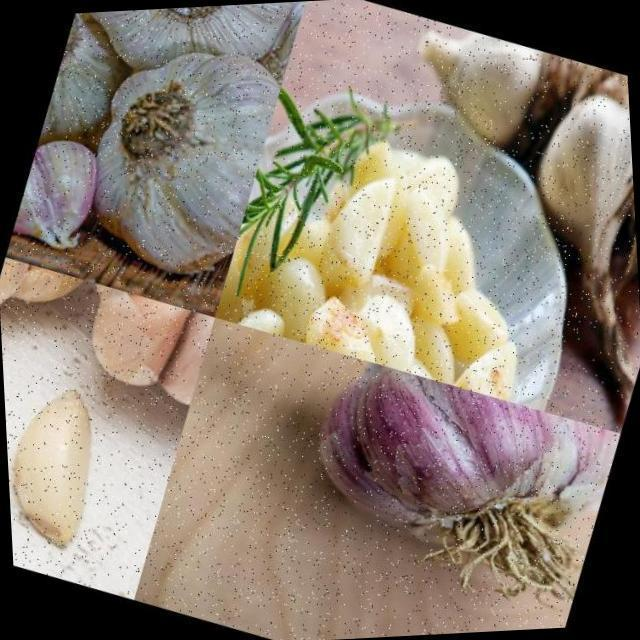garlic: (205, 84, 590, 418), (274, 339, 630, 636), (55, 14, 298, 294), (496, 75, 640, 314), (382, 10, 564, 182), (30, 7, 188, 180), (66, 0, 306, 111), (58, 277, 220, 428), (2, 372, 126, 558), (212, 0, 318, 150), (4, 128, 111, 265), (1, 346, 33, 478)
